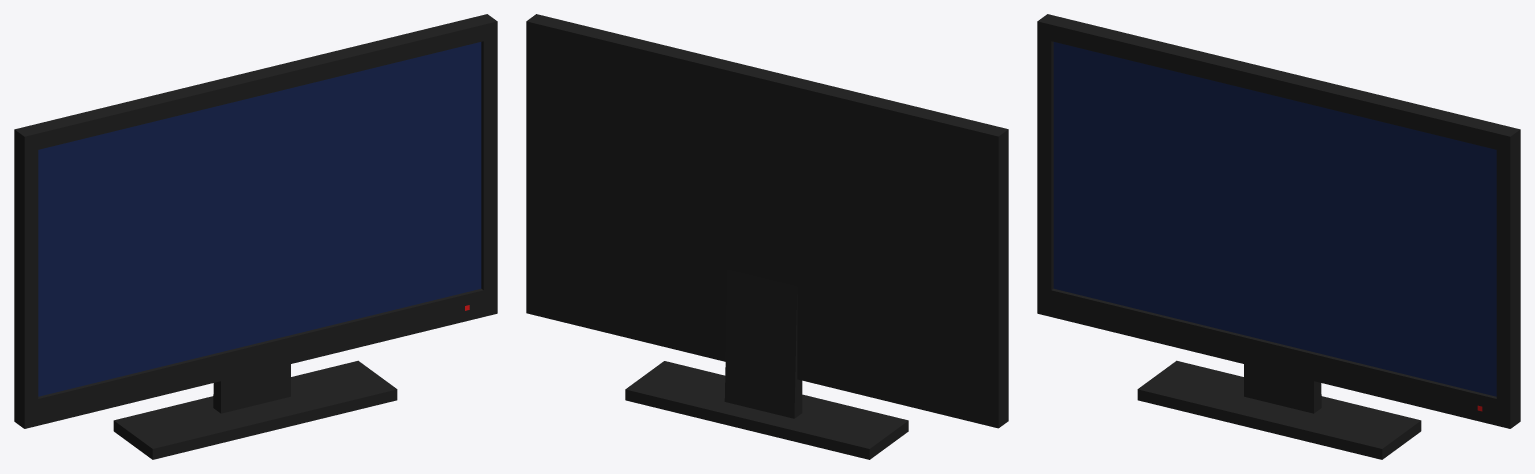
The picture shows the model from 3 angles, left to right: view 1: azimuth 30°, elevation 25°; view 2: azimuth 150°, elevation 25°; view 3: azimuth 330°, elevation 25°; orthographic projection.
Parts seen in each view (by area): view 1: tv; view 2: tv; view 3: tv.
Boxes of the visible parts, x1,y1,x2,y2 form: tv: (14, 14, 497, 459); tv: (526, 14, 1008, 459); tv: (1037, 14, 1520, 459).
Size of the model in its own units: 1.35 by 0.9325 by 0.1941.
